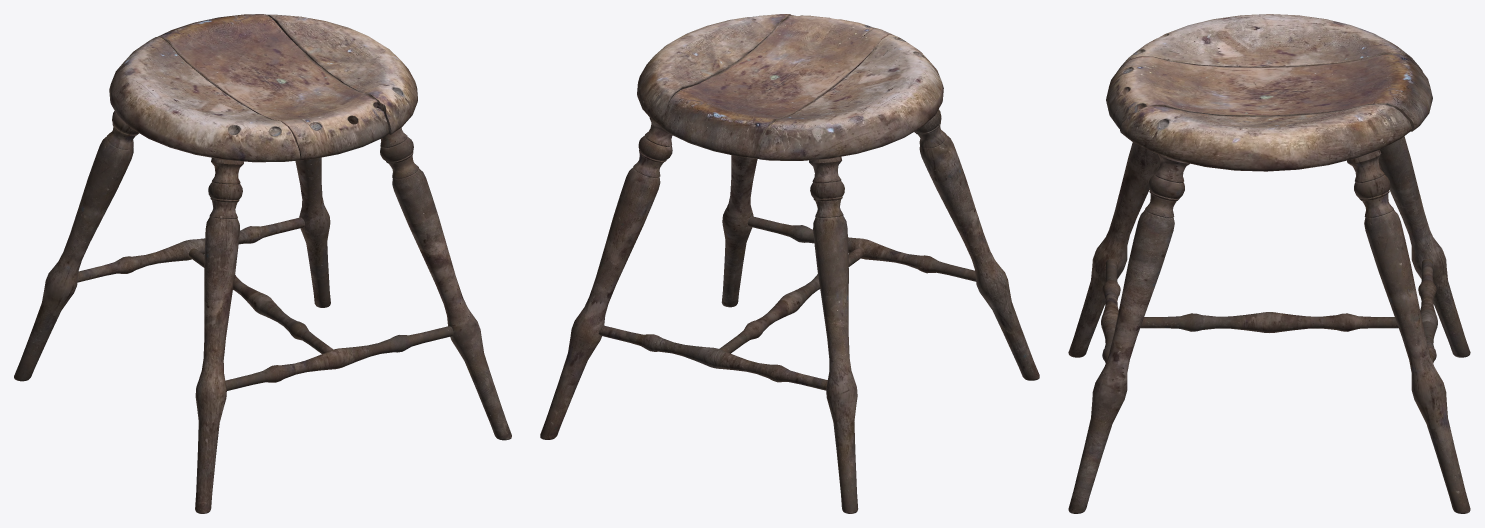
3 views of the same model, side by side, from view 1: azimuth 30°, elevation 25°; view 2: azimuth 150°, elevation 25°; view 3: azimuth 270°, elevation 25° (orthographic). The views are drawn at different scales.
Parts seen in each view (by area): view 1: wooden_stool_01; view 2: wooden_stool_01; view 3: wooden_stool_01.
Part boxes in pixels (box(x1,y1,x2,y2)): wooden_stool_01: box(14, 14, 511, 513); wooden_stool_01: box(540, 14, 1039, 513); wooden_stool_01: box(1068, 14, 1470, 513).
Bounding box in the file's own units: 0.4254 × 0.4373 × 0.4424.
1 material, 1 textured.
